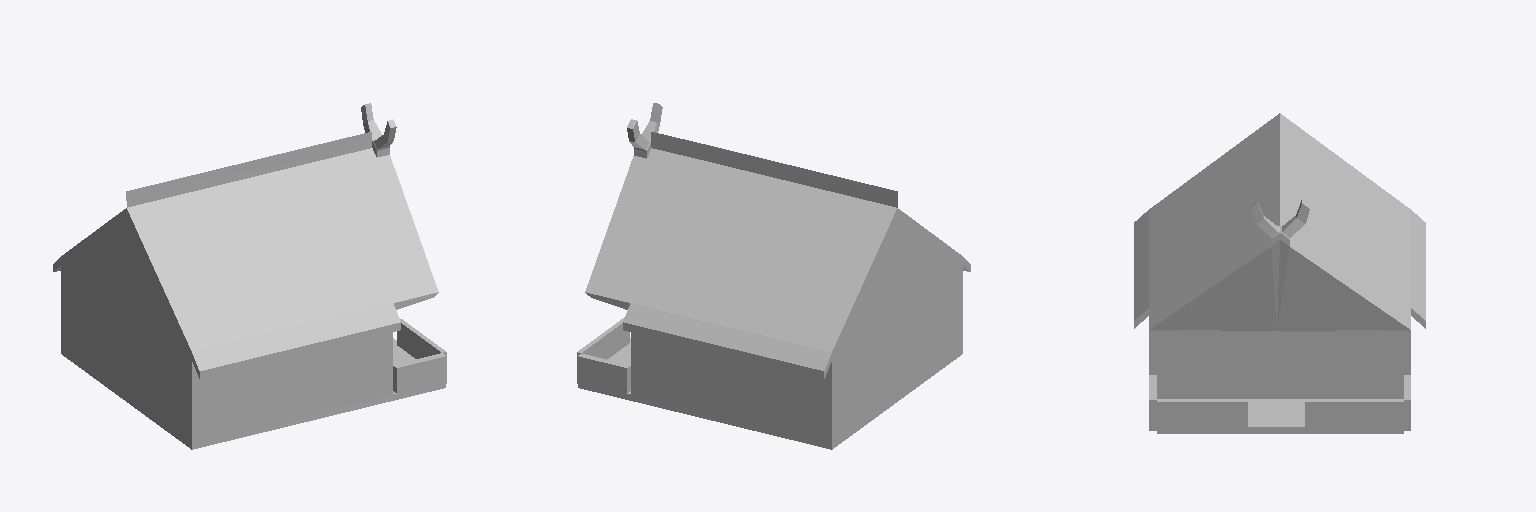
Rendered from forest_cabin.obj.
3 views of the same model, side by side, from view 1: azimuth 30°, elevation 25°; view 2: azimuth 150°, elevation 25°; view 3: azimuth 270°, elevation 25° (orthographic).
Parts seen in each view (by area): view 1: forest_cabin group9; view 2: forest_cabin group9; view 3: forest_cabin group9.
Part boxes in pixels (bbox=[...]): forest_cabin group9: bbox=[53, 103, 446, 449]; forest_cabin group9: bbox=[577, 103, 970, 449]; forest_cabin group9: bbox=[1134, 113, 1425, 433].
Bounding box in the file's own units: 4.62 × 3.89 × 4.52.